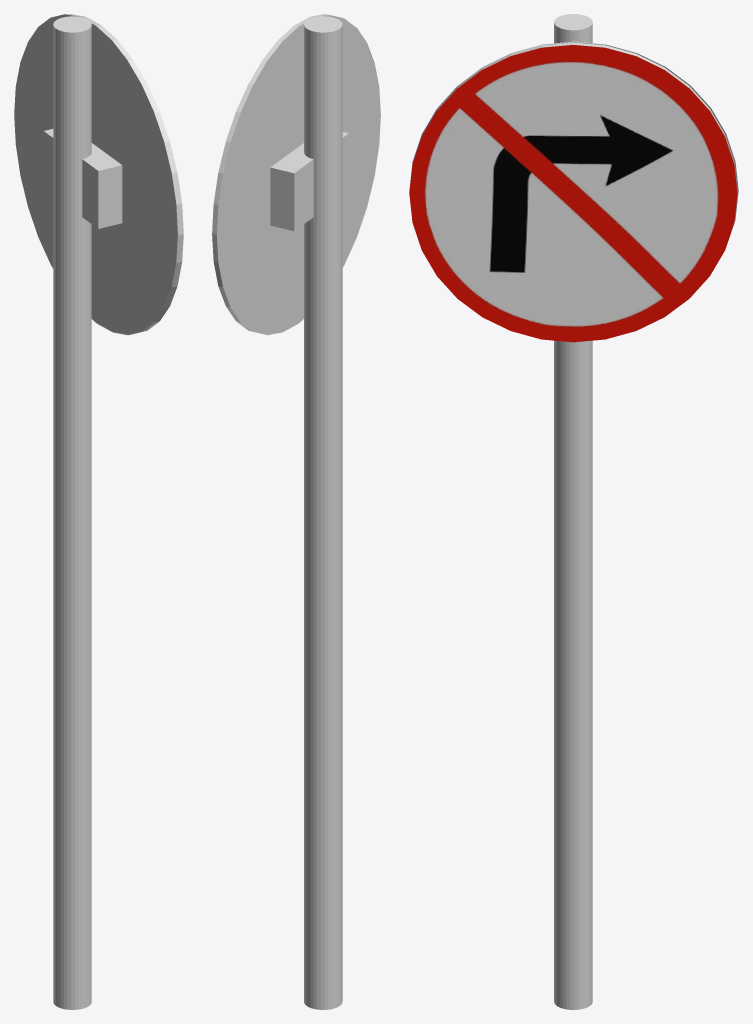
Rendered from Lar.BelokKanan.fbx.
3 views of the same model, side by side, from view 1: azimuth 30°, elevation 25°; view 2: azimuth 150°, elevation 25°; view 3: azimuth 270°, elevation 25° (orthographic).
Visible parts, largest first — view 1: Cylinder, Cylinder.001, Cube; view 2: Cylinder, Cylinder.001, Cube; view 3: Cylinder.001, Cylinder.
Boxes of the visible parts, <box> form: Cylinder: <box>53,16,91,1009</box>; Cylinder.001: <box>14,14,183,335</box>; Cube: <box>43,129,122,228</box>; Cylinder: <box>304,16,342,1009</box>; Cylinder.001: <box>212,14,380,335</box>; Cube: <box>270,132,348,231</box>; Cylinder.001: <box>409,41,738,342</box>; Cylinder: <box>554,14,592,1009</box>.
Bounding box in the file's own units: 35.85 × 727 × 222.
